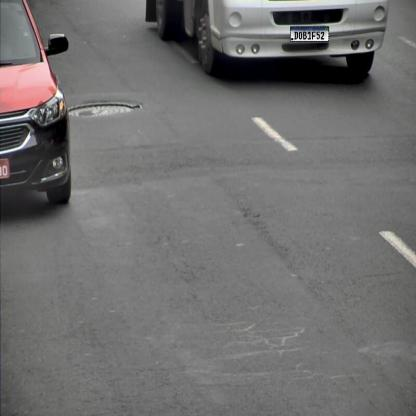PlacaM: (290, 26, 329, 42)
